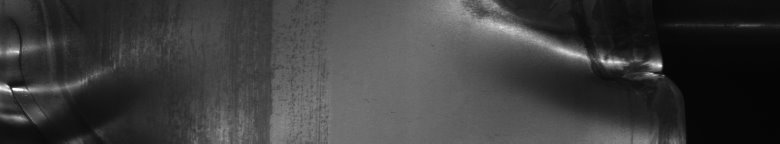ke: (4, 36, 116, 128)
